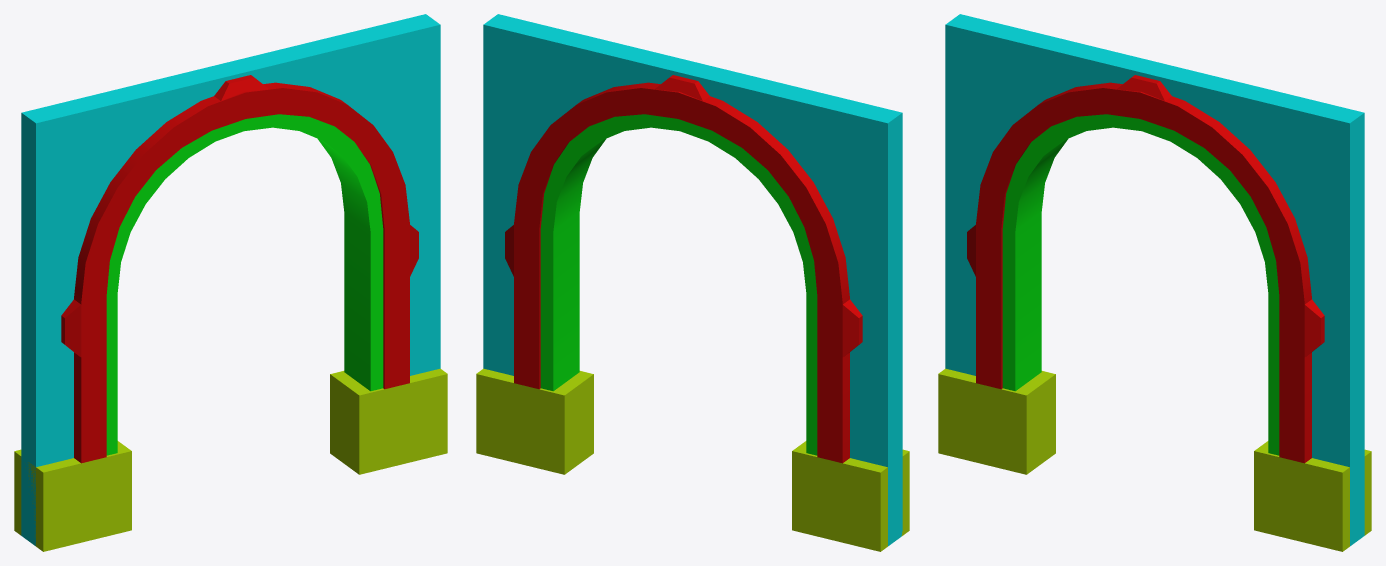
The model's file is mur porte.FBX.
The picture shows the model from 3 angles, left to right: view 1: azimuth 30°, elevation 25°; view 2: azimuth 150°, elevation 25°; view 3: azimuth 330°, elevation 25°; orthographic projection.
Visible parts, largest first — view 1: Line007; view 2: Line007; view 3: Line007.
Part boxes in pixels (x1,y1,x2,y2): Line007: [14, 14, 447, 551]; Line007: [476, 14, 909, 551]; Line007: [938, 14, 1371, 551].
Size of the model in its own units: 2560 by 2560 by 320.
